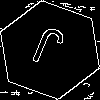J: (25, 25, 68, 77)
